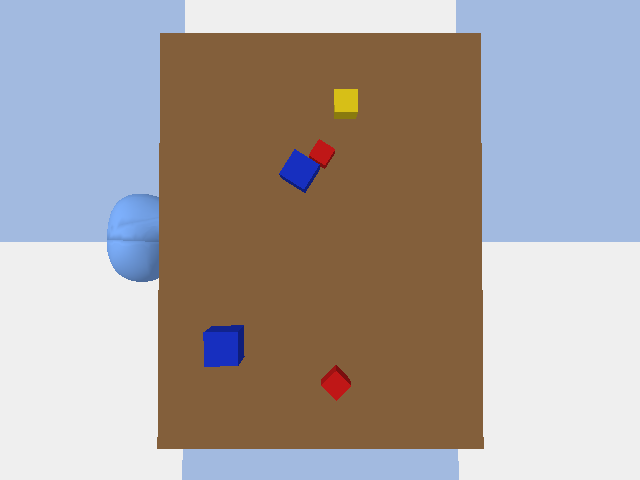blue_obj: (279, 149, 319, 192), (203, 325, 244, 366)
red_obj: (321, 365, 350, 400), (309, 139, 334, 168)
yellow_obj: (334, 89, 357, 118)
